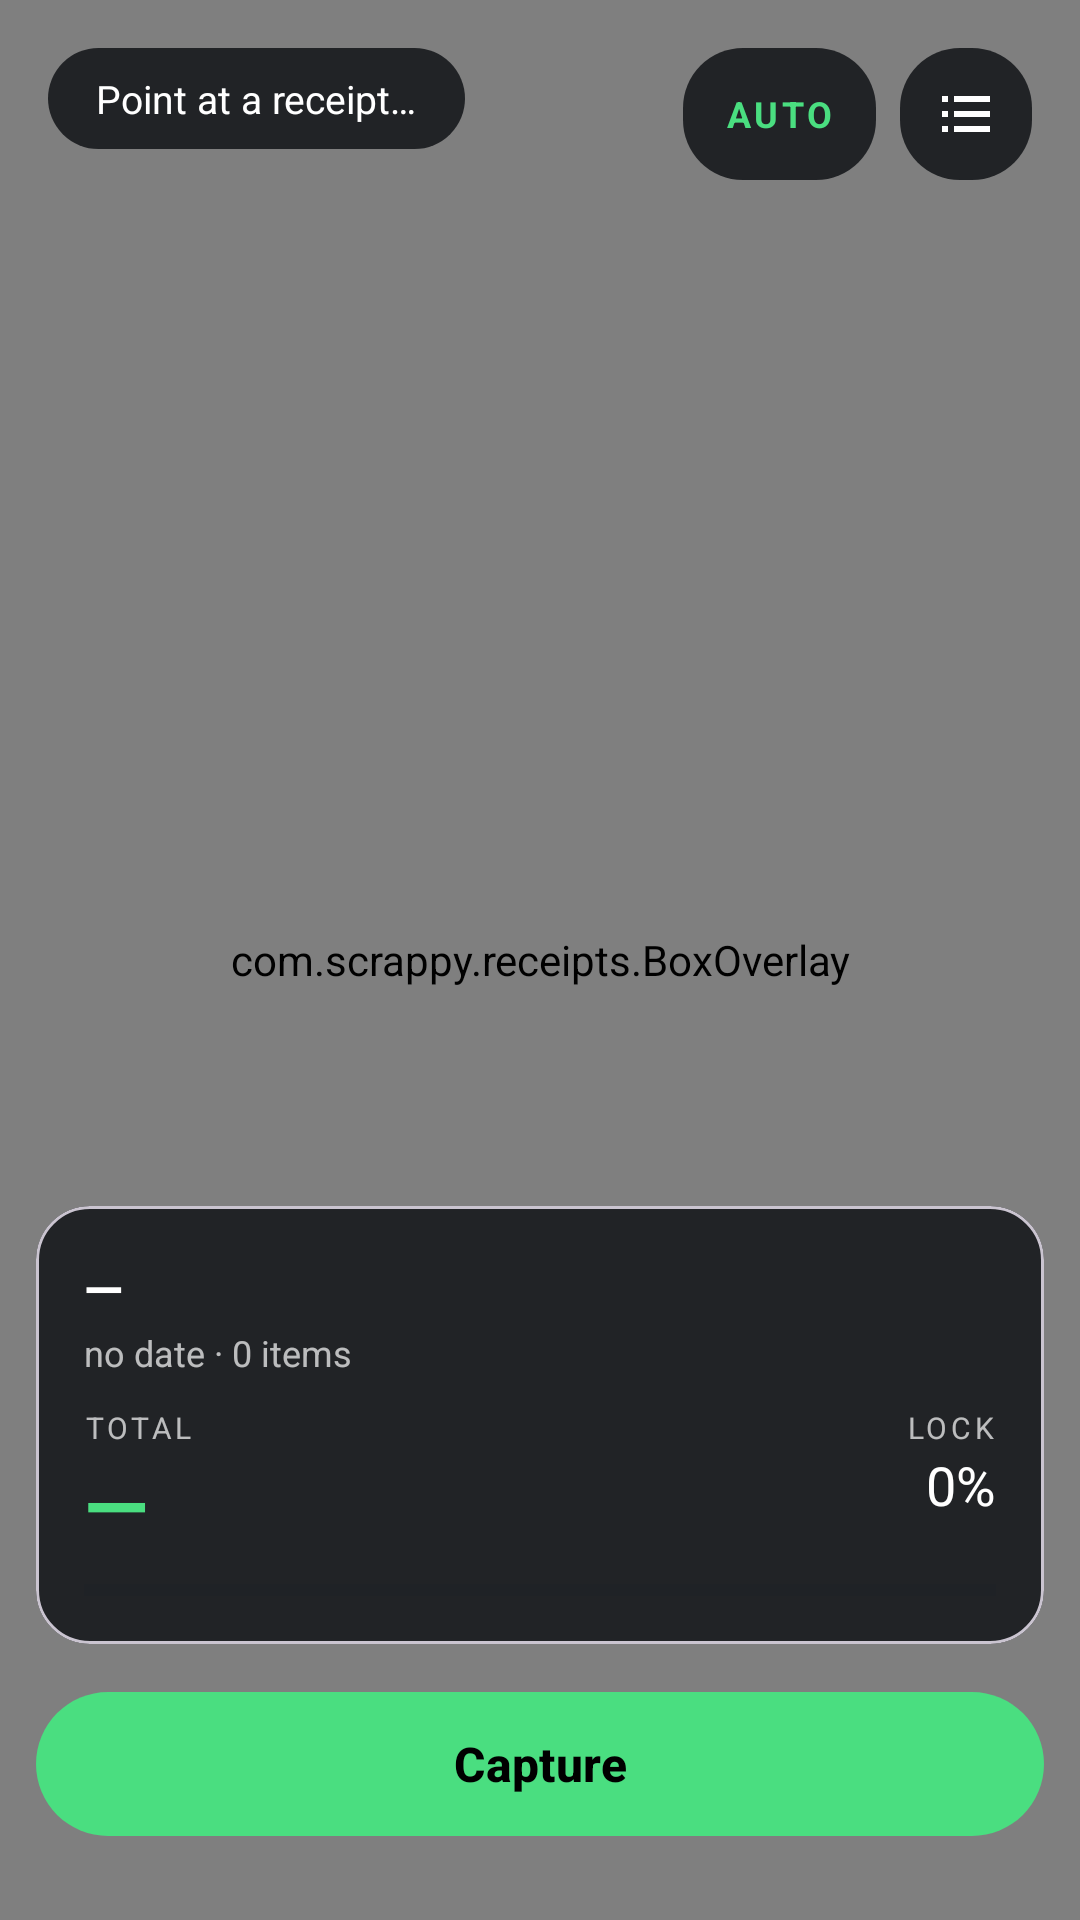

Icon click points for this 1080×1920 phone screenshot, format [x,y]:
Saved receipts: [966,114]
